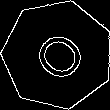O_SE: (23, 22, 92, 87)
